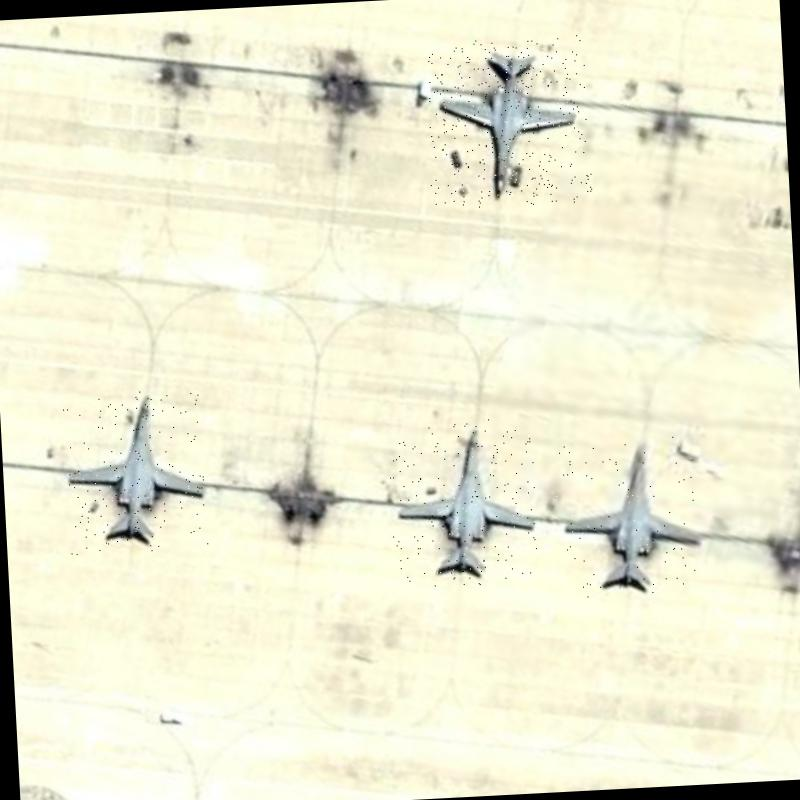A10: (423, 34, 593, 210), (388, 418, 540, 590), (554, 434, 706, 598), (62, 386, 208, 556)
